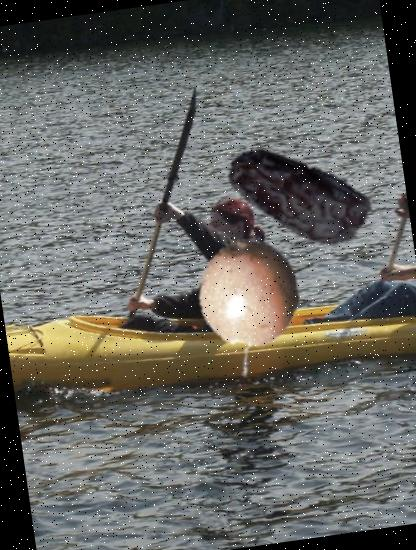Dates: (214, 114, 383, 283)
Granadilla: (169, 229, 327, 388)
